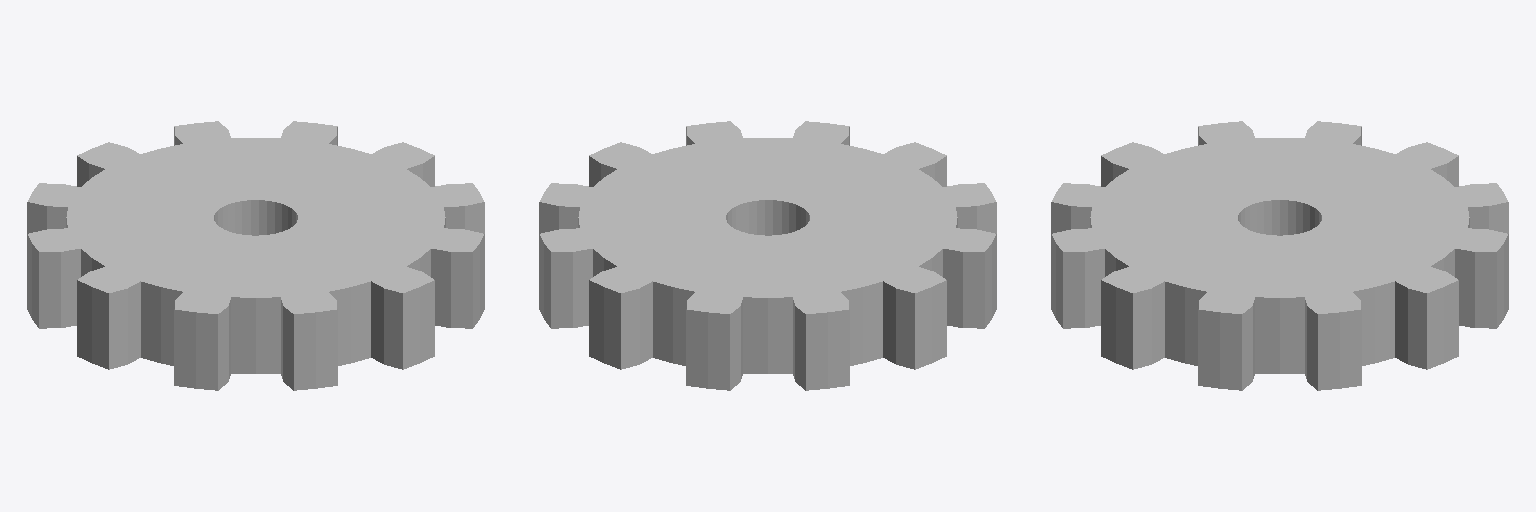
Rendered from gear.obj.
3 renders of one model, left to right at view 1: azimuth 30°, elevation 25°; view 2: azimuth 150°, elevation 25°; view 3: azimuth 270°, elevation 25°, orthographic.
Bounding box in the file's own units: 2.17 × 0.4 × 2.17.